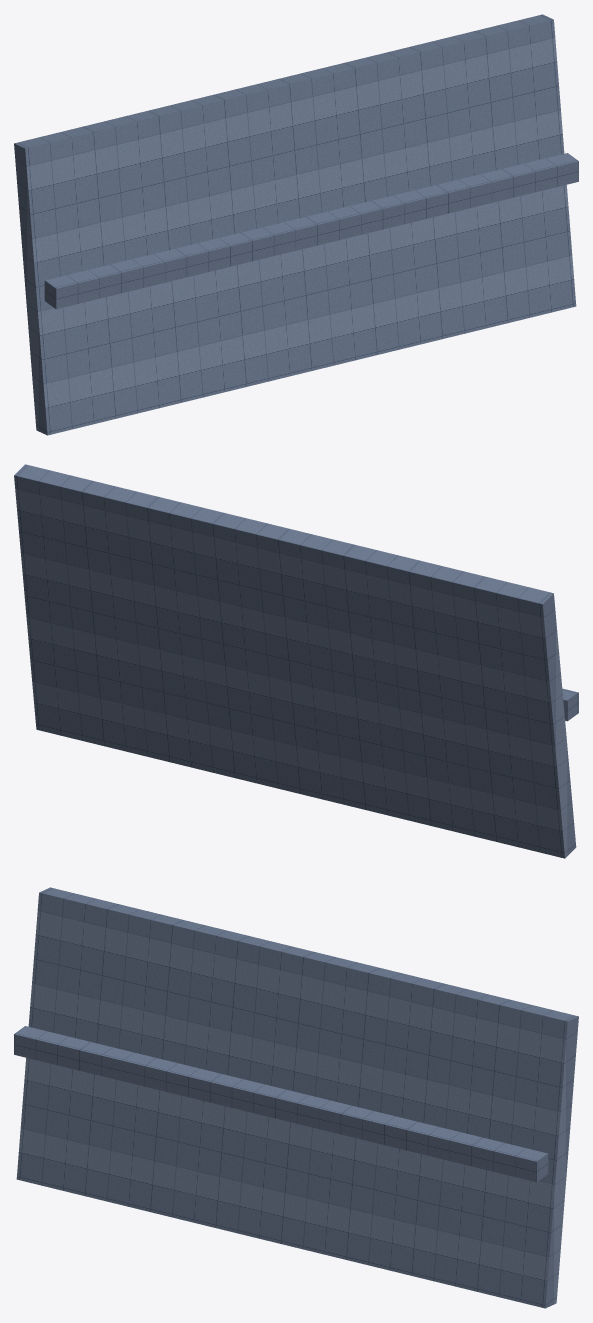
3 views of the same model, one above another, from view 1: azimuth 30°, elevation 25°; view 2: azimuth 150°, elevation 25°; view 3: azimuth 330°, elevation 25° (orthographic).
Parts seen in each view (by area): view 1: roof_shed_lod0_run001; view 2: roof_shed_lod0_run001; view 3: roof_shed_lod0_run001.
Part boxes in pixels (box(x1,y1,x2,y2)): roof_shed_lod0_run001: box(14, 14, 578, 435); roof_shed_lod0_run001: box(14, 464, 578, 858); roof_shed_lod0_run001: box(14, 887, 578, 1308).
Size of the model in its own units: 8.09 by 4 by 1.04.
Materials: 1 (1 with a texture image).
